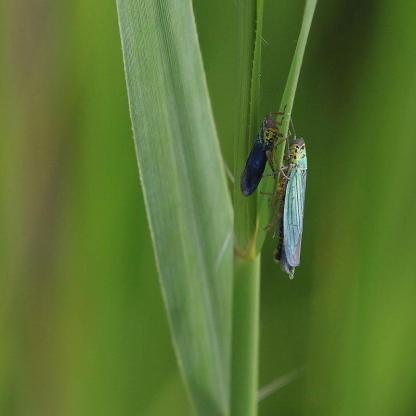Green-Leafhopper: (276, 127, 310, 287), (239, 97, 285, 209)
